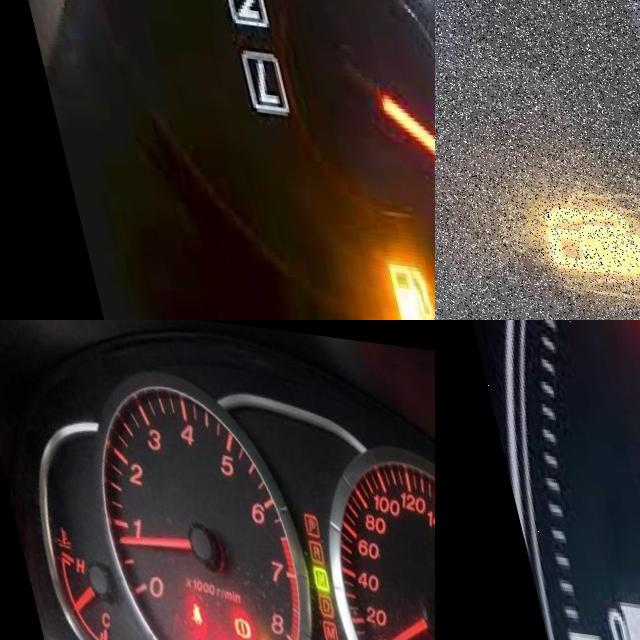Seat Belt: (174, 597, 190, 623)
